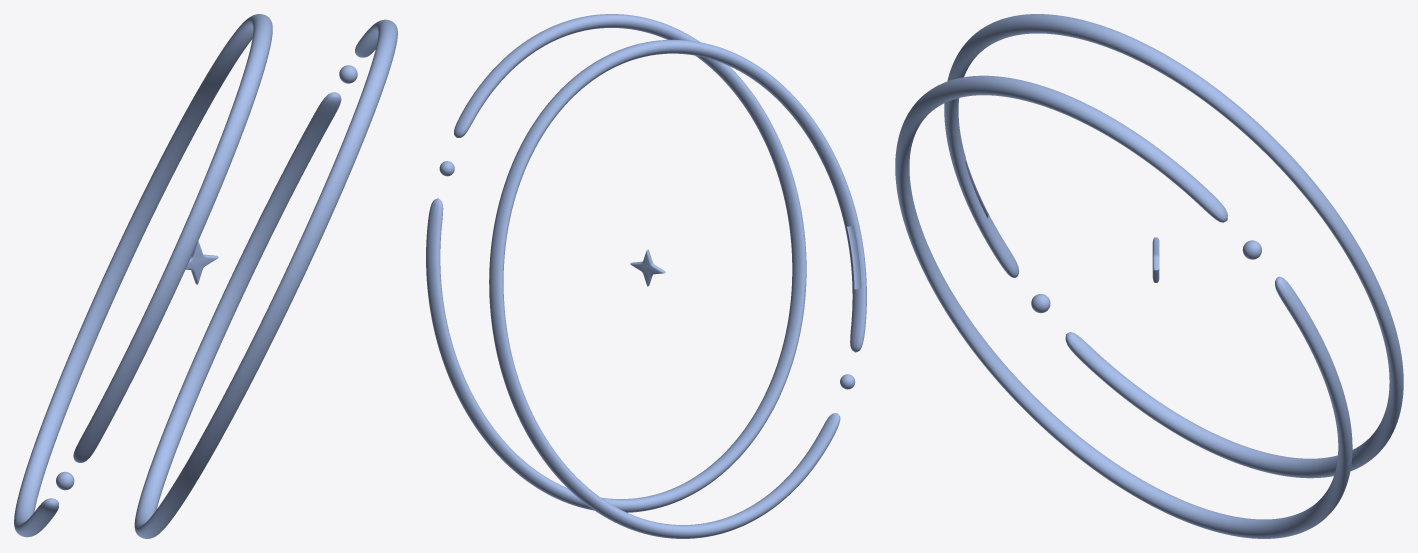
The model's file is y2krogoshape2.glb.
3 views of the same model, side by side, from view 1: azimuth 30°, elevation 25°; view 2: azimuth 150°, elevation 25°; view 3: azimuth 270°, elevation 25° (orthographic). The views are drawn at different scales.
Visible parts, largest first — view 1: Sphere.004, Sphere.002, star.001; view 2: Sphere.004, Sphere.002; view 3: Sphere.002, Sphere.004.
Boxes of the visible parts, x1,y1,x2,y2 form: Sphere.004: (14,14,272,537); Sphere.002: (134,19,397,538); star.001: (185,241,218,284); Sphere.004: (489,39,866,538); Sphere.002: (426,14,806,512); Sphere.002: (895,75,1352,538); Sphere.004: (944,14,1403,478).
Size of the model in its own units: 0.5561 by 0.6775 by 0.5849.
